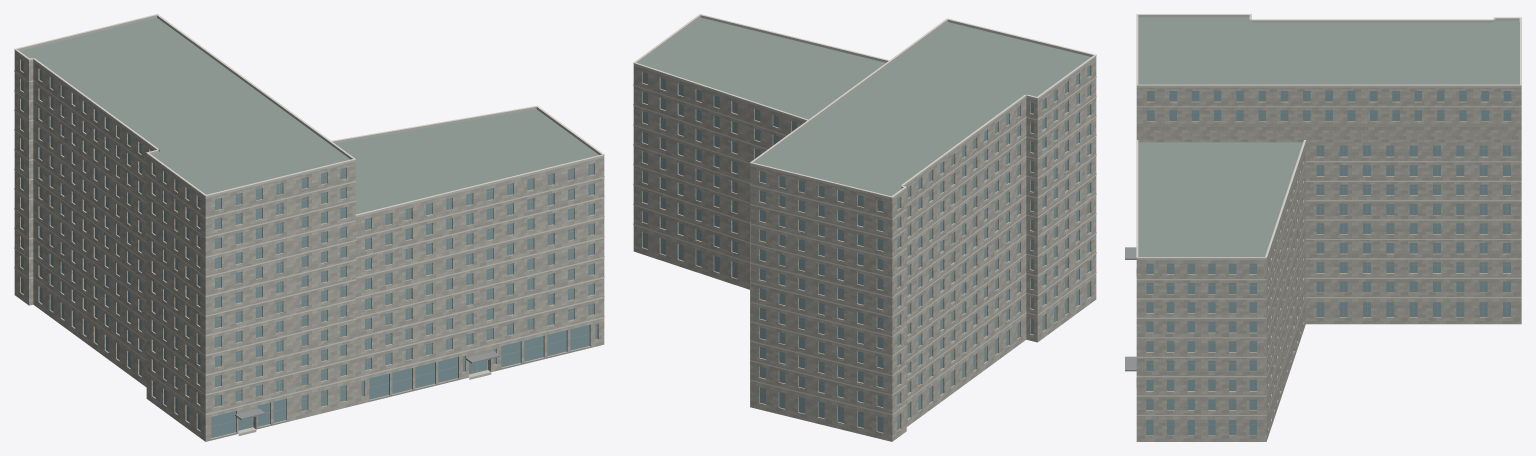
3 renders of one model, left to right at view 1: azimuth 30°, elevation 25°; view 2: azimuth 150°, elevation 25°; view 3: azimuth 270°, elevation 25°, orthographic. The views are drawn at different scales.
Parts seen in each view (by area): view 1: yeonam__wall, yeonam__roof, yeonam__glass, yeonam__trim, yeonam__frame, yeonam__parapet; view 2: yeonam__wall, yeonam__roof, yeonam__glass, yeonam__trim, yeonam__parapet, yeonam__frame; view 3: yeonam__wall, yeonam__roof, yeonam__glass, yeonam__trim, yeonam__frame, yeonam__parapet.
Part boxes in pixels (x1,y1,x2,y2): yeonam__wall: (14, 52, 604, 441); yeonam__roof: (16, 17, 598, 439); yeonam__glass: (21, 60, 597, 437); yeonam__trim: (14, 14, 604, 415); yeonam__frame: (21, 62, 597, 428); yeonam__parapet: (14, 15, 604, 217); yeonam__wall: (633, 58, 1096, 441); yeonam__roof: (638, 17, 1090, 440); yeonam__glass: (642, 66, 1089, 432); yeonam__trim: (633, 14, 1096, 415); yeonam__parapet: (633, 15, 1096, 199); yeonam__frame: (642, 67, 1090, 421); yeonam__wall: (1136, 87, 1521, 441); yeonam__roof: (1138, 17, 1521, 324); yeonam__glass: (1146, 91, 1511, 435); yeonam__trim: (1136, 14, 1521, 415); yeonam__frame: (1146, 93, 1510, 424); yeonam__parapet: (1136, 15, 1521, 259).
Bounding box in the file's own units: 76.54 × 45.45 × 67.86.
11 materials, 1 textured.
